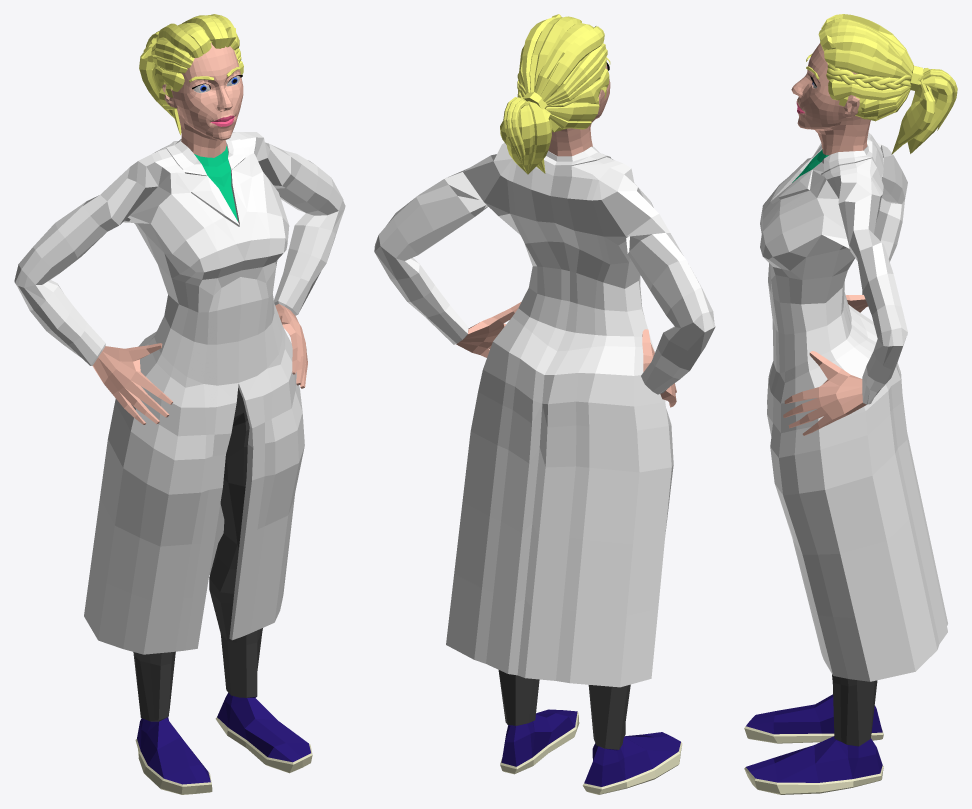
The model's file is _taticSci 1.fbx.
The picture shows the model from 3 angles, left to right: view 1: azimuth 30°, elevation 25°; view 2: azimuth 150°, elevation 25°; view 3: azimuth 270°, elevation 25°; orthographic projection. The views are drawn at different scales.
Visible parts, largest first — view 1: scientistJoin; view 2: scientistJoin; view 3: scientistJoin.
Boxes of the visible parts, <box> form: scientistJoin: <box>14,14,345,794</box>; scientistJoin: <box>374,14,715,794</box>; scientistJoin: <box>744,14,957,794</box>.
Size of the model in its own units: 89.39 by 49.62 by 189.
